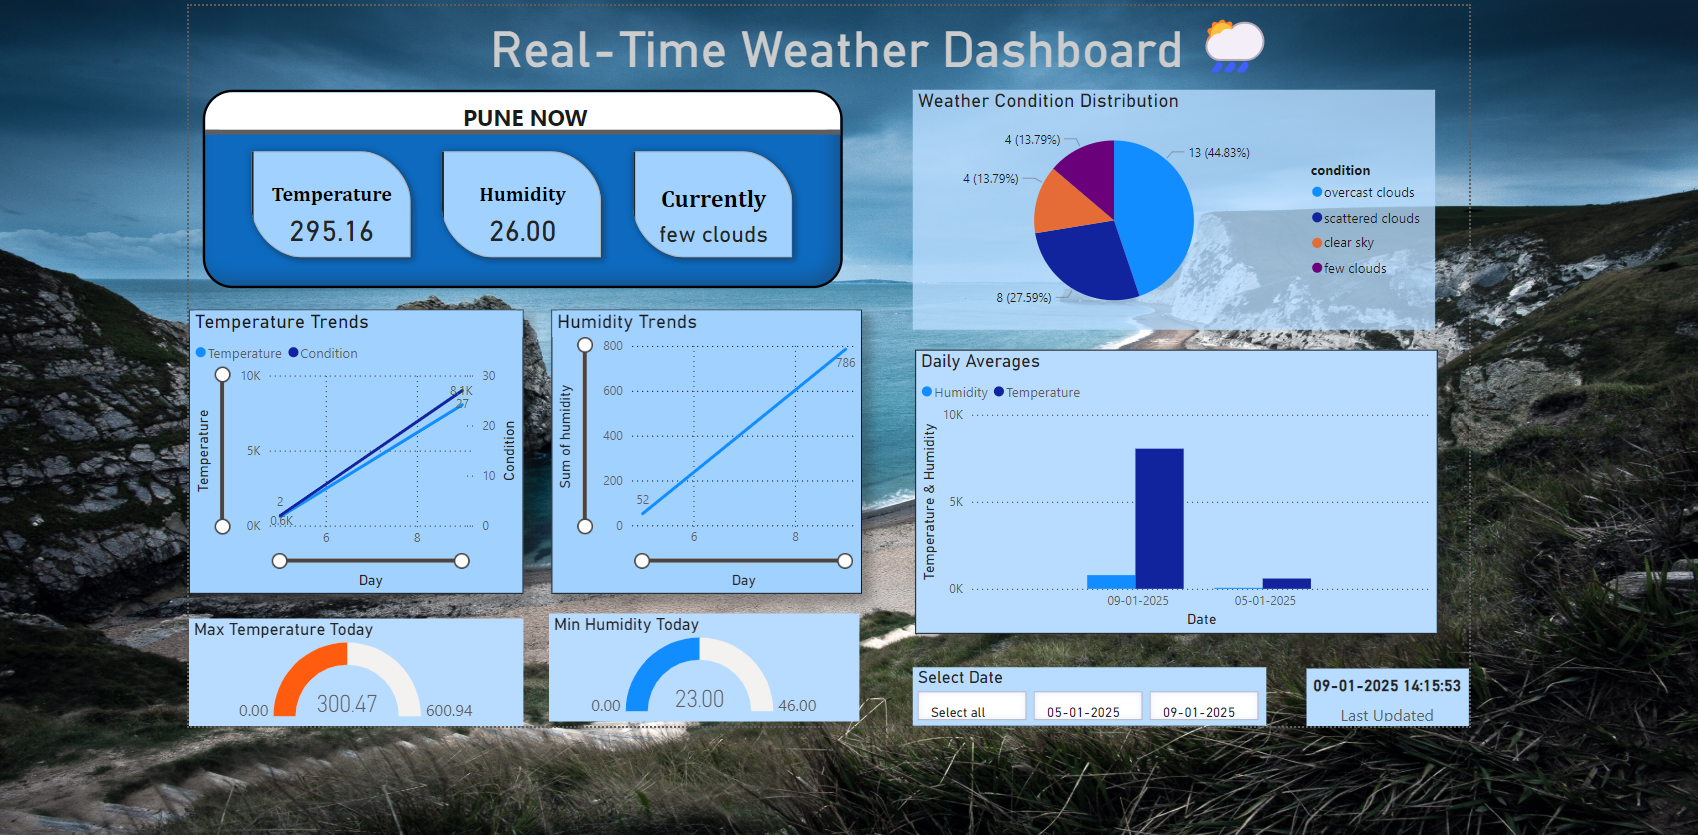

The dashboard page shown, as its layout file describes it:
{"tool":"powerbi","page":{"name":"Page 1","canvas":[1280,720],"ordinal":0},"visuals":[{"type":"lineChart","title":"Temperature Trends","fields":{"Category":["public weather.timestamp.Variation.Date Hierarchy.Day"],"Y":["Sum(public weather.temperature)"],"Y2":["CountNonNull(public weather.condition)"]},"box":[0,304,334,284],"z":0},{"type":"lineChart","title":"Humidity Trends","fields":{"Category":["public weather.timestamp.Variation.Date Hierarchy.Day"],"Y":["Sum(public weather.humidity)"]},"box":[362,304,310,284],"z":1000},{"type":"cardVisual","title":"PUNE  NOW ","fields":{"Data":["Sum(public weather.temperature)","Sum(public weather.humidity)","Min(public weather.condition)"]},"box":[14,84,640,198],"z":2000},{"type":"pieChart","title":"Weather Condition Distribution","fields":{"Category":["public weather.condition"],"Y":["CountNonNull(public weather.condition)"]},"box":[724,84,522,240],"z":3000},{"type":"gauge","fields":{"Y":["public weather.Max Temperature Today"]},"box":[0,612,334,108],"z":4000},{"type":"gauge","fields":{"Y":["public weather.Min Humidity Today"]},"box":[360,608,310,108],"z":5000},{"type":"card","fields":{"Values":["public weather.Latest Timestamp"]},"box":[1118,662,162,58],"z":6000},{"type":"clusteredColumnChart","title":"Daily Averages","fields":{"Y":["Sum(public weather.humidity)","Sum(public weather.temperature)"],"Category":["public weather.Date"]},"box":[726,344,522,284],"z":7000},{"type":"textbox","title":"Real-Time Weather Dashboard 🌦️","box":[296.7,0,821.7,66.7],"z":8000},{"type":"advancedSlicerVisual","fields":{"Values":["public weather.Date"]},"box":[723.3,661.7,353.3,58.3],"z":8001}]}

Visuals, with their boxes on the page's 1280x720 design canvas (x1, y1, x2, y2). These are canvas units, not pixel positions in the 1698x835 screenshot, which may show the page scaled, cropped or inside an application window:
"Temperature Trends" lineChart: bbox=(0, 304, 334, 588)
"Humidity Trends" lineChart: bbox=(362, 304, 672, 588)
"PUNE  NOW " cardVisual: bbox=(14, 84, 654, 282)
"Weather Condition Distribution" pieChart: bbox=(724, 84, 1246, 324)
gauge - public weather.Max Temperature Today: bbox=(0, 612, 334, 720)
gauge - public weather.Min Humidity Today: bbox=(360, 608, 670, 716)
card - public weather.Latest Timestamp: bbox=(1118, 662, 1280, 720)
"Daily Averages" clusteredColumnChart: bbox=(726, 344, 1248, 628)
"Real-Time Weather Dashboard 🌦️" textbox: bbox=(297, 0, 1118, 67)
advancedSlicerVisual - public weather.Date: bbox=(723, 662, 1077, 720)
